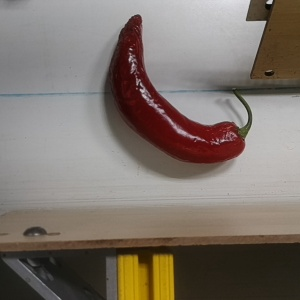Cut Point: (221, 118, 252, 155)
